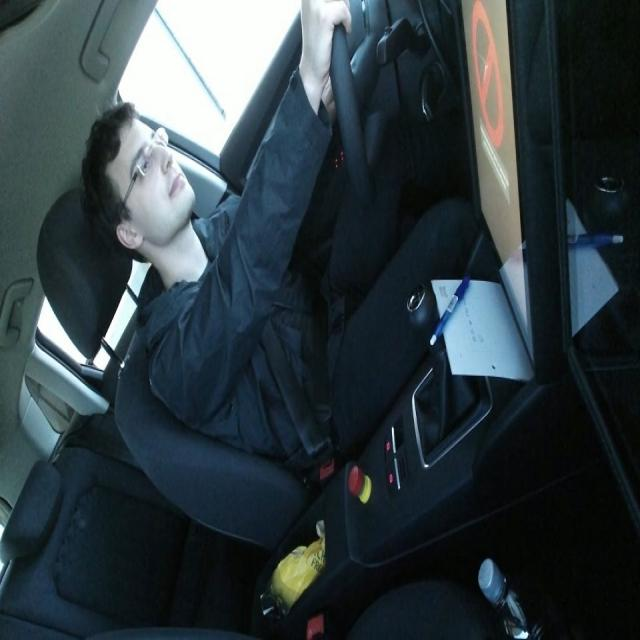pen: (431, 264, 474, 352)
